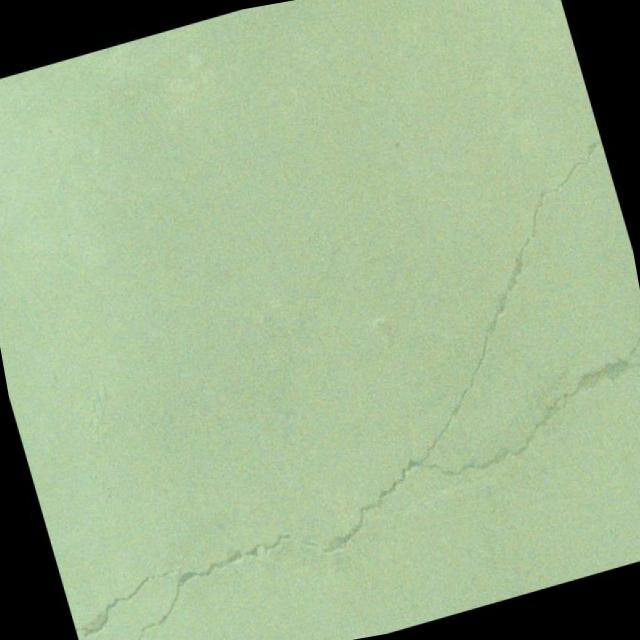crack: (0, 137, 640, 640), (64, 563, 201, 640)
